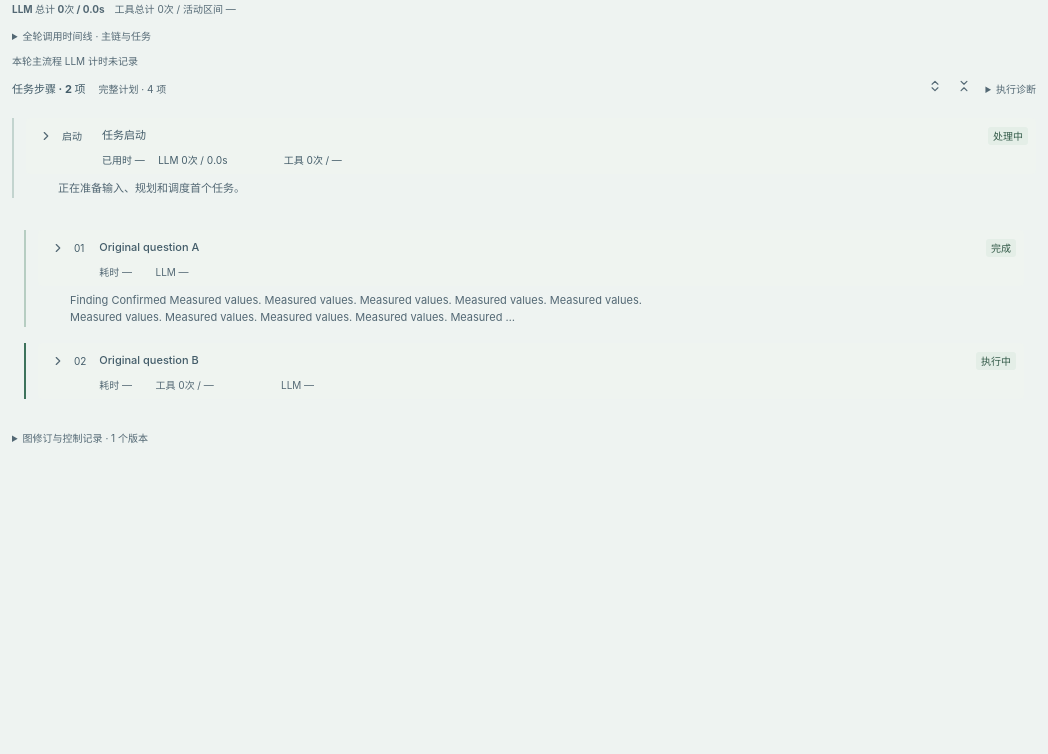
Test: actual graph process reader › shows actual branches and join links, original IDs, and the precise blocked node
The image size is (1048, 754).
Click the button with aria-label "查看完整计划": (132,89) 93,78 -> 171,100
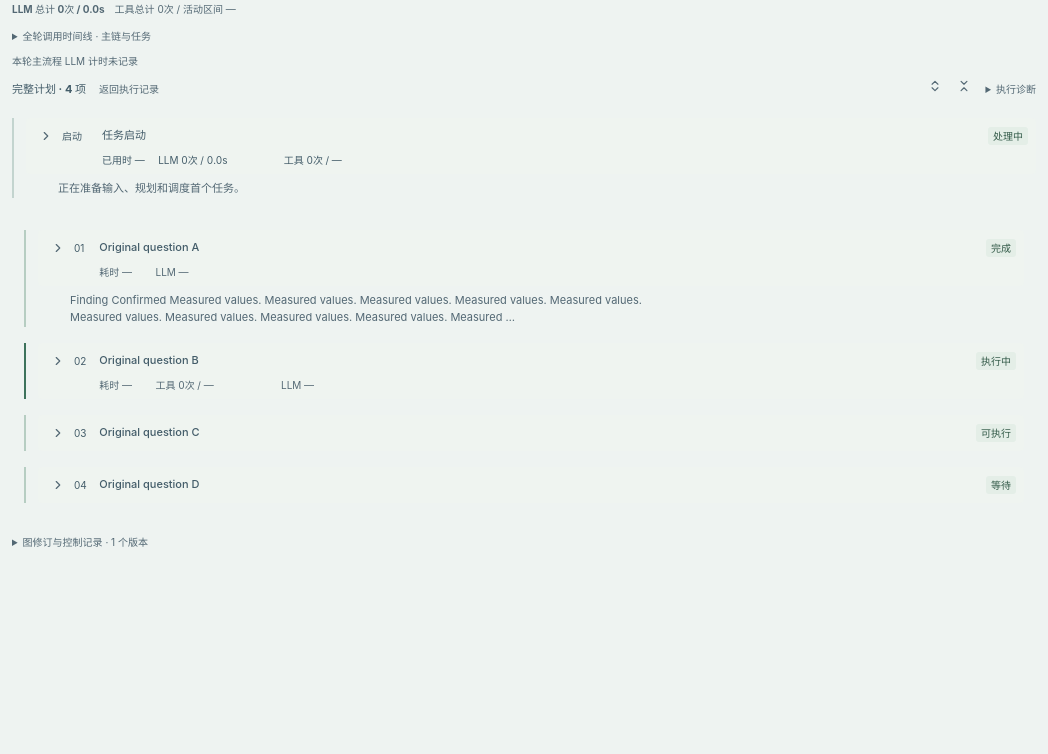
Click the button named "展开步骤：Original question C": (58,433) 46,421 -> 70,445
(page scrolled)
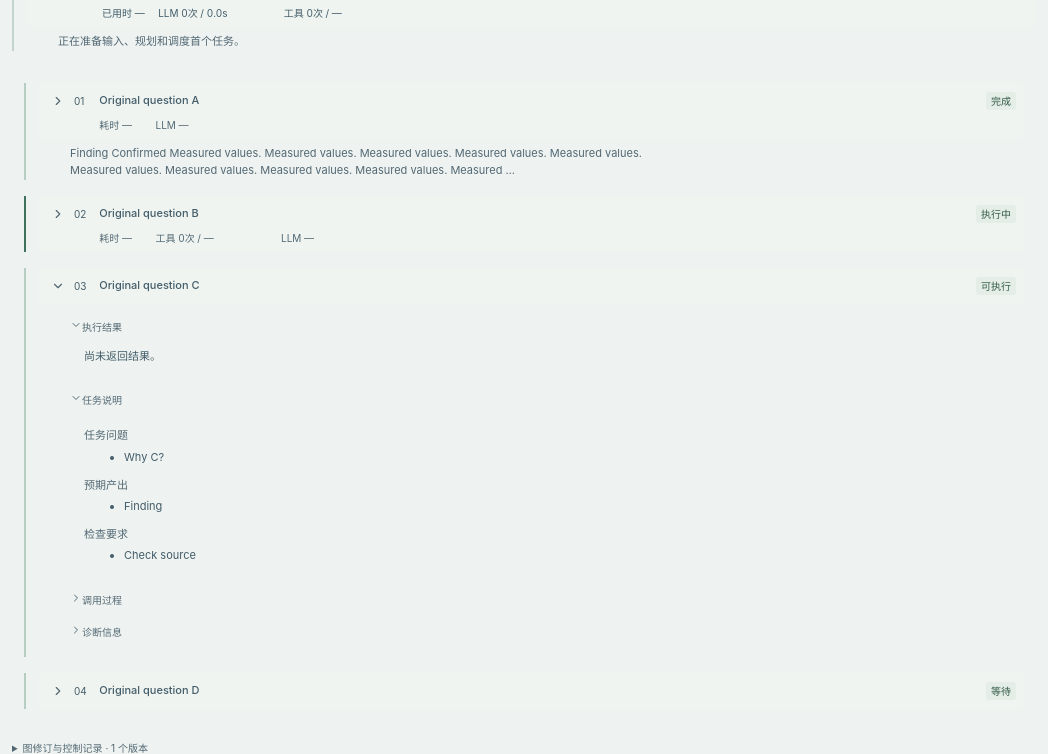
Click the button named "展开步骤：Original question D": (58,691) 46,679 -> 70,703
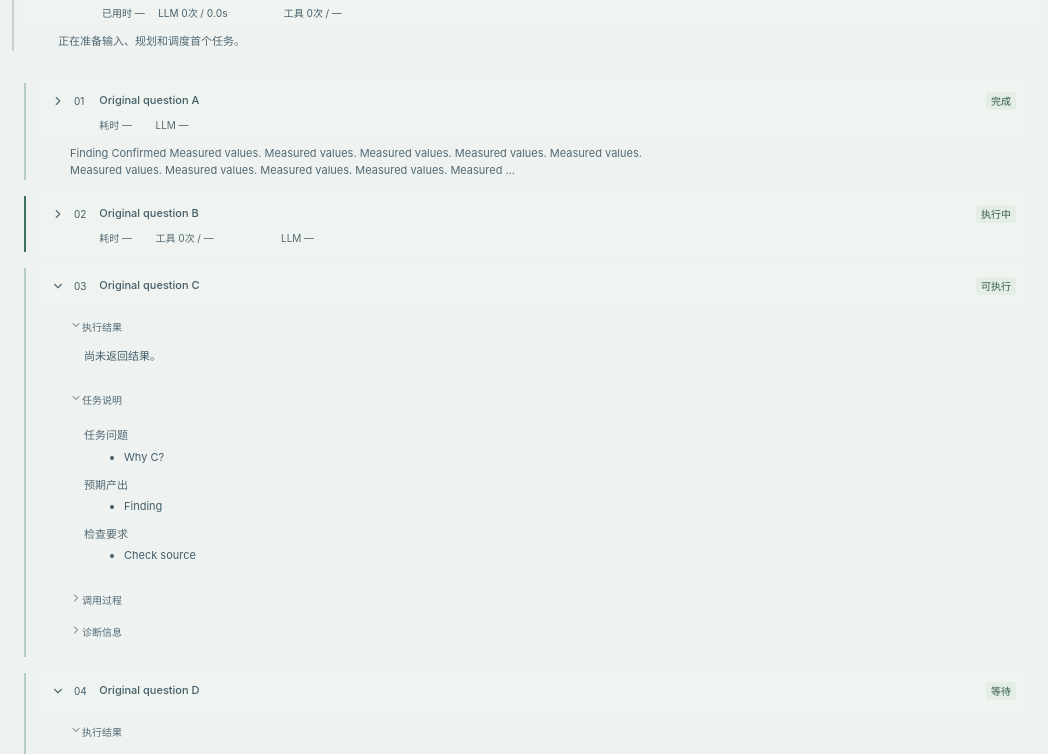
Click the heading "调用过程": (96,599) 70,592 -> 122,606
(page scrolled)
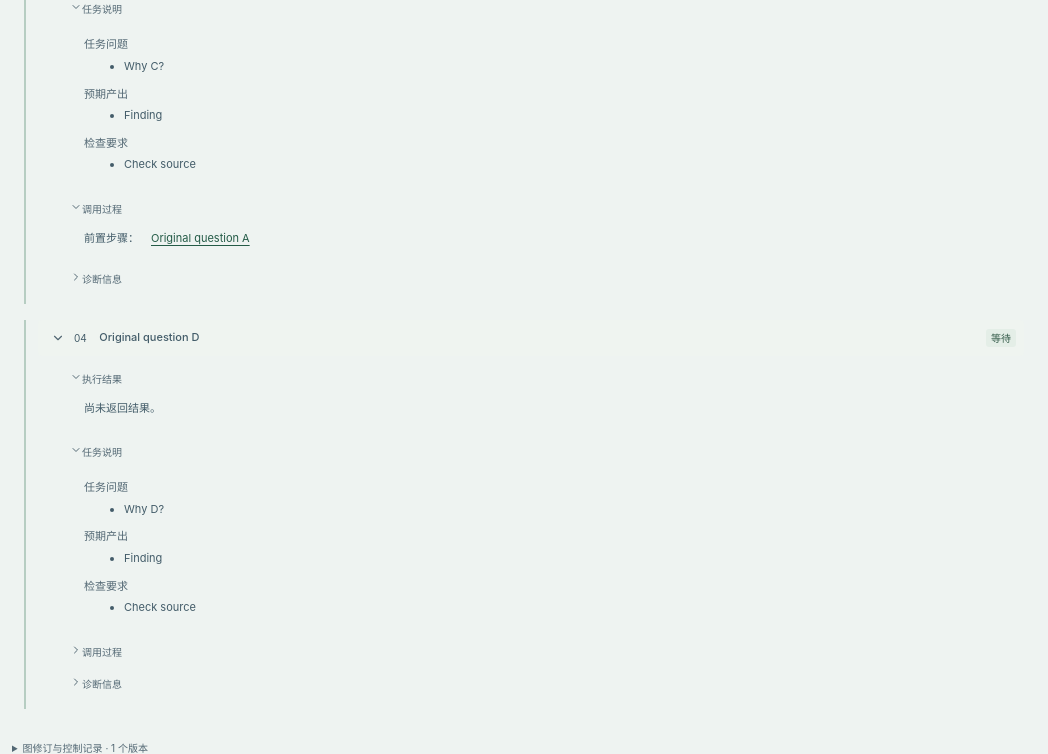
Click the heading "调用过程" below "Why D?": (96,651) 70,644 -> 122,658
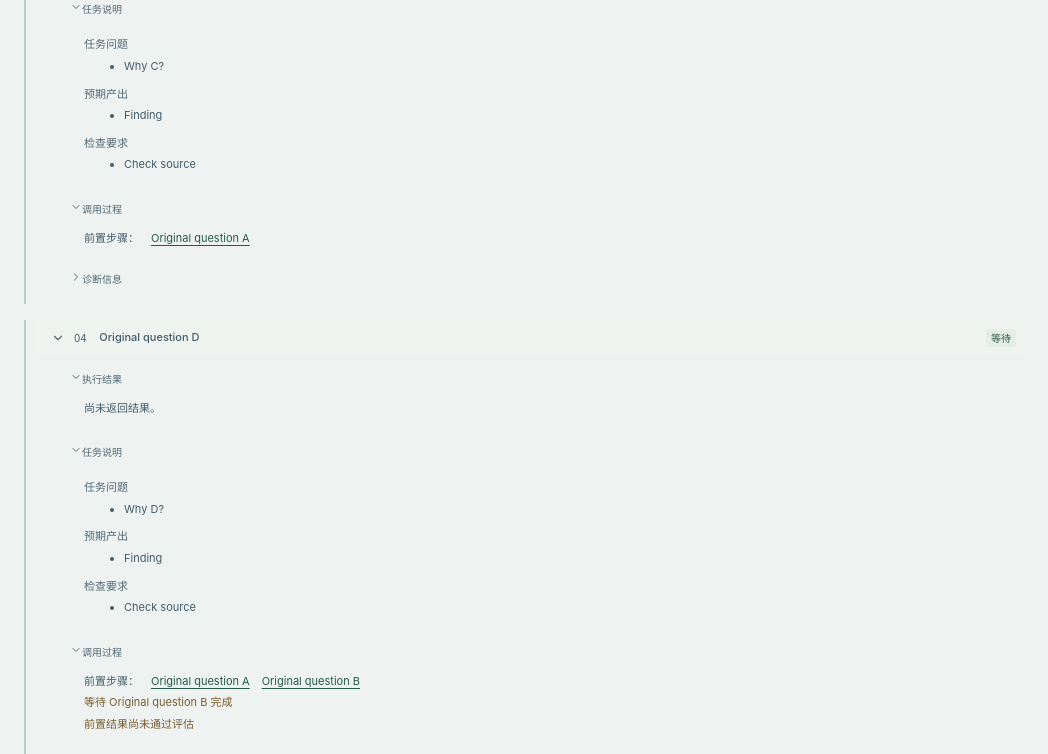
Check: the text "准备" is not shown
Check: the text "等待 Original question B 完成" is shown, box 84,695 -> 232,709
